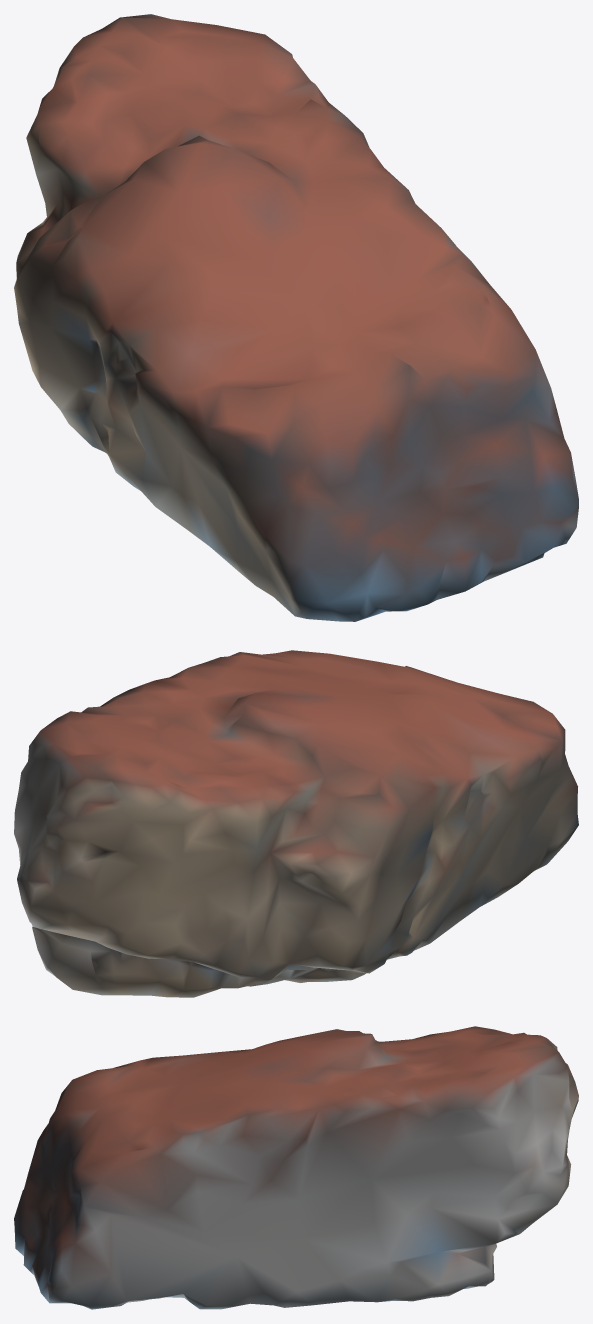
File: rock_07.fbx
3 views of the same model, one above another, from view 1: azimuth 30°, elevation 25°; view 2: azimuth 150°, elevation 25°; view 3: azimuth 270°, elevation 25° (orthographic). The views are drawn at different scales.
Visible parts, largest first — view 1: rock_07; view 2: rock_07; view 3: rock_07.
Part boxes in pixels (x1,y1,x2,y2): rock_07: (14, 14, 578, 621); rock_07: (14, 650, 578, 997); rock_07: (14, 1026, 578, 1309).
Size of the model in its own units: 0.168 by 0.1435 by 0.3205.
